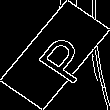P_NW: (21, 25, 89, 85)
